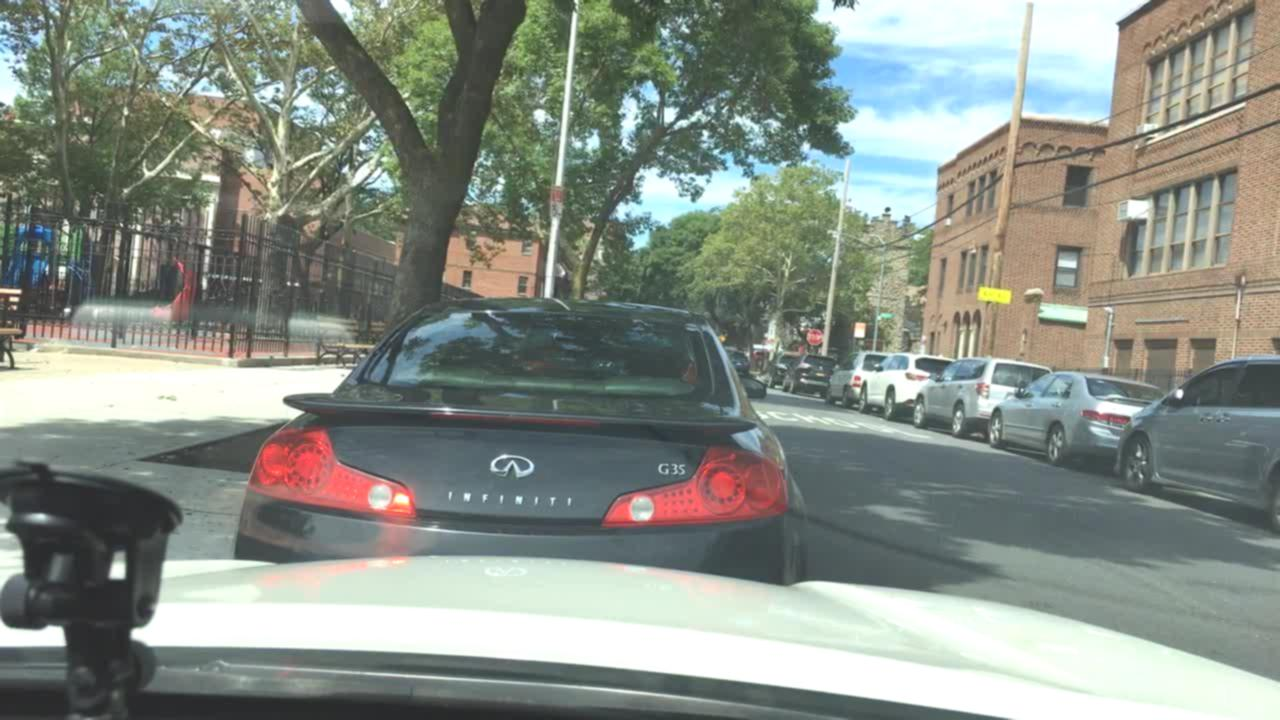Infiniti: (476, 433, 562, 487)
